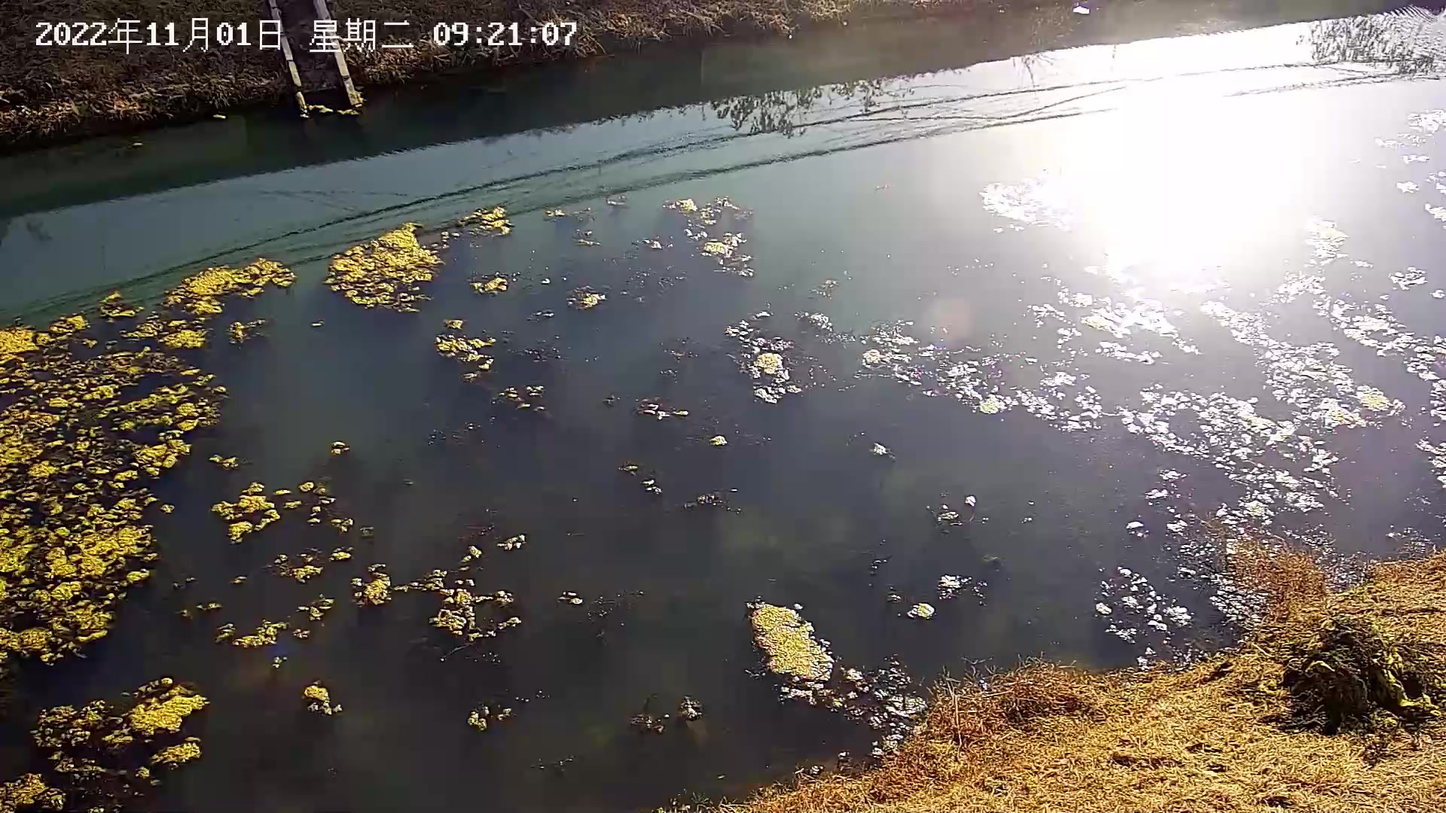floater: (4, 254, 210, 807), (204, 440, 537, 731), (856, 320, 1102, 433), (1120, 385, 1332, 514), (742, 599, 923, 743), (1285, 209, 1441, 376), (1201, 306, 1392, 434), (324, 221, 441, 315), (1049, 284, 1188, 358), (1090, 566, 1186, 673), (668, 194, 760, 282), (208, 257, 297, 347), (1385, 105, 1446, 226), (728, 314, 804, 410), (980, 177, 1070, 234), (1407, 378, 1446, 500), (563, 582, 644, 636), (435, 317, 497, 382), (542, 204, 609, 251), (606, 391, 693, 422), (630, 698, 700, 732), (459, 204, 516, 236), (929, 498, 978, 532), (502, 382, 546, 416), (685, 492, 743, 515), (813, 314, 856, 345), (930, 575, 978, 599), (468, 274, 512, 300), (624, 464, 661, 494), (523, 340, 563, 364), (566, 286, 606, 309)
